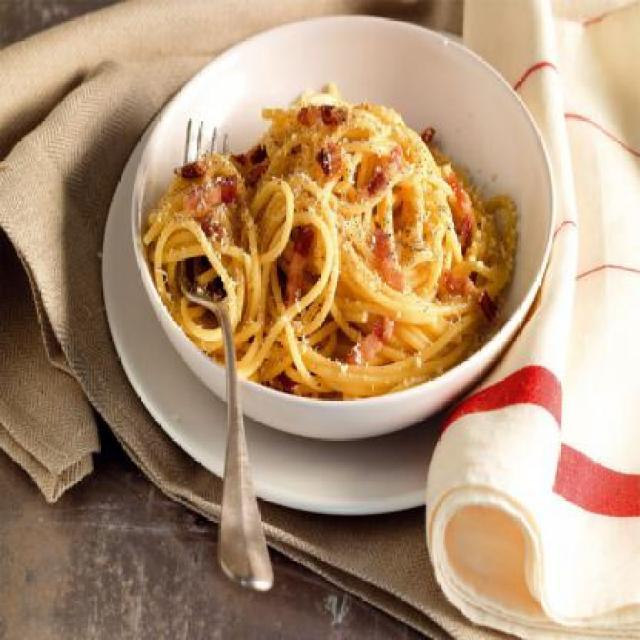Pasta with carbonara sauce: (154, 59, 606, 434)
